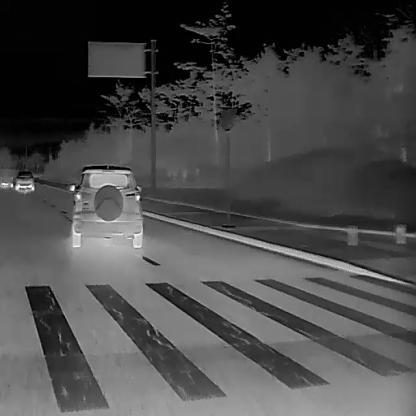car: (67, 164, 142, 247), (14, 171, 34, 192)
